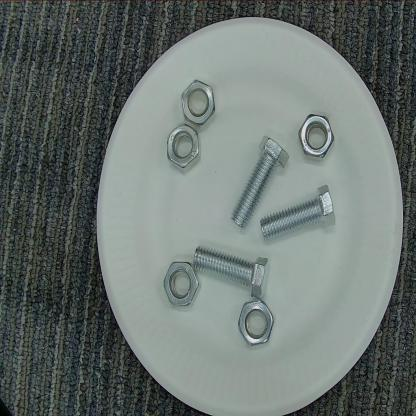FOD: (227, 134, 292, 237), (258, 178, 343, 242), (191, 246, 274, 294), (236, 295, 276, 351), (161, 258, 203, 309), (164, 123, 206, 170), (301, 107, 334, 164), (177, 81, 218, 122)
